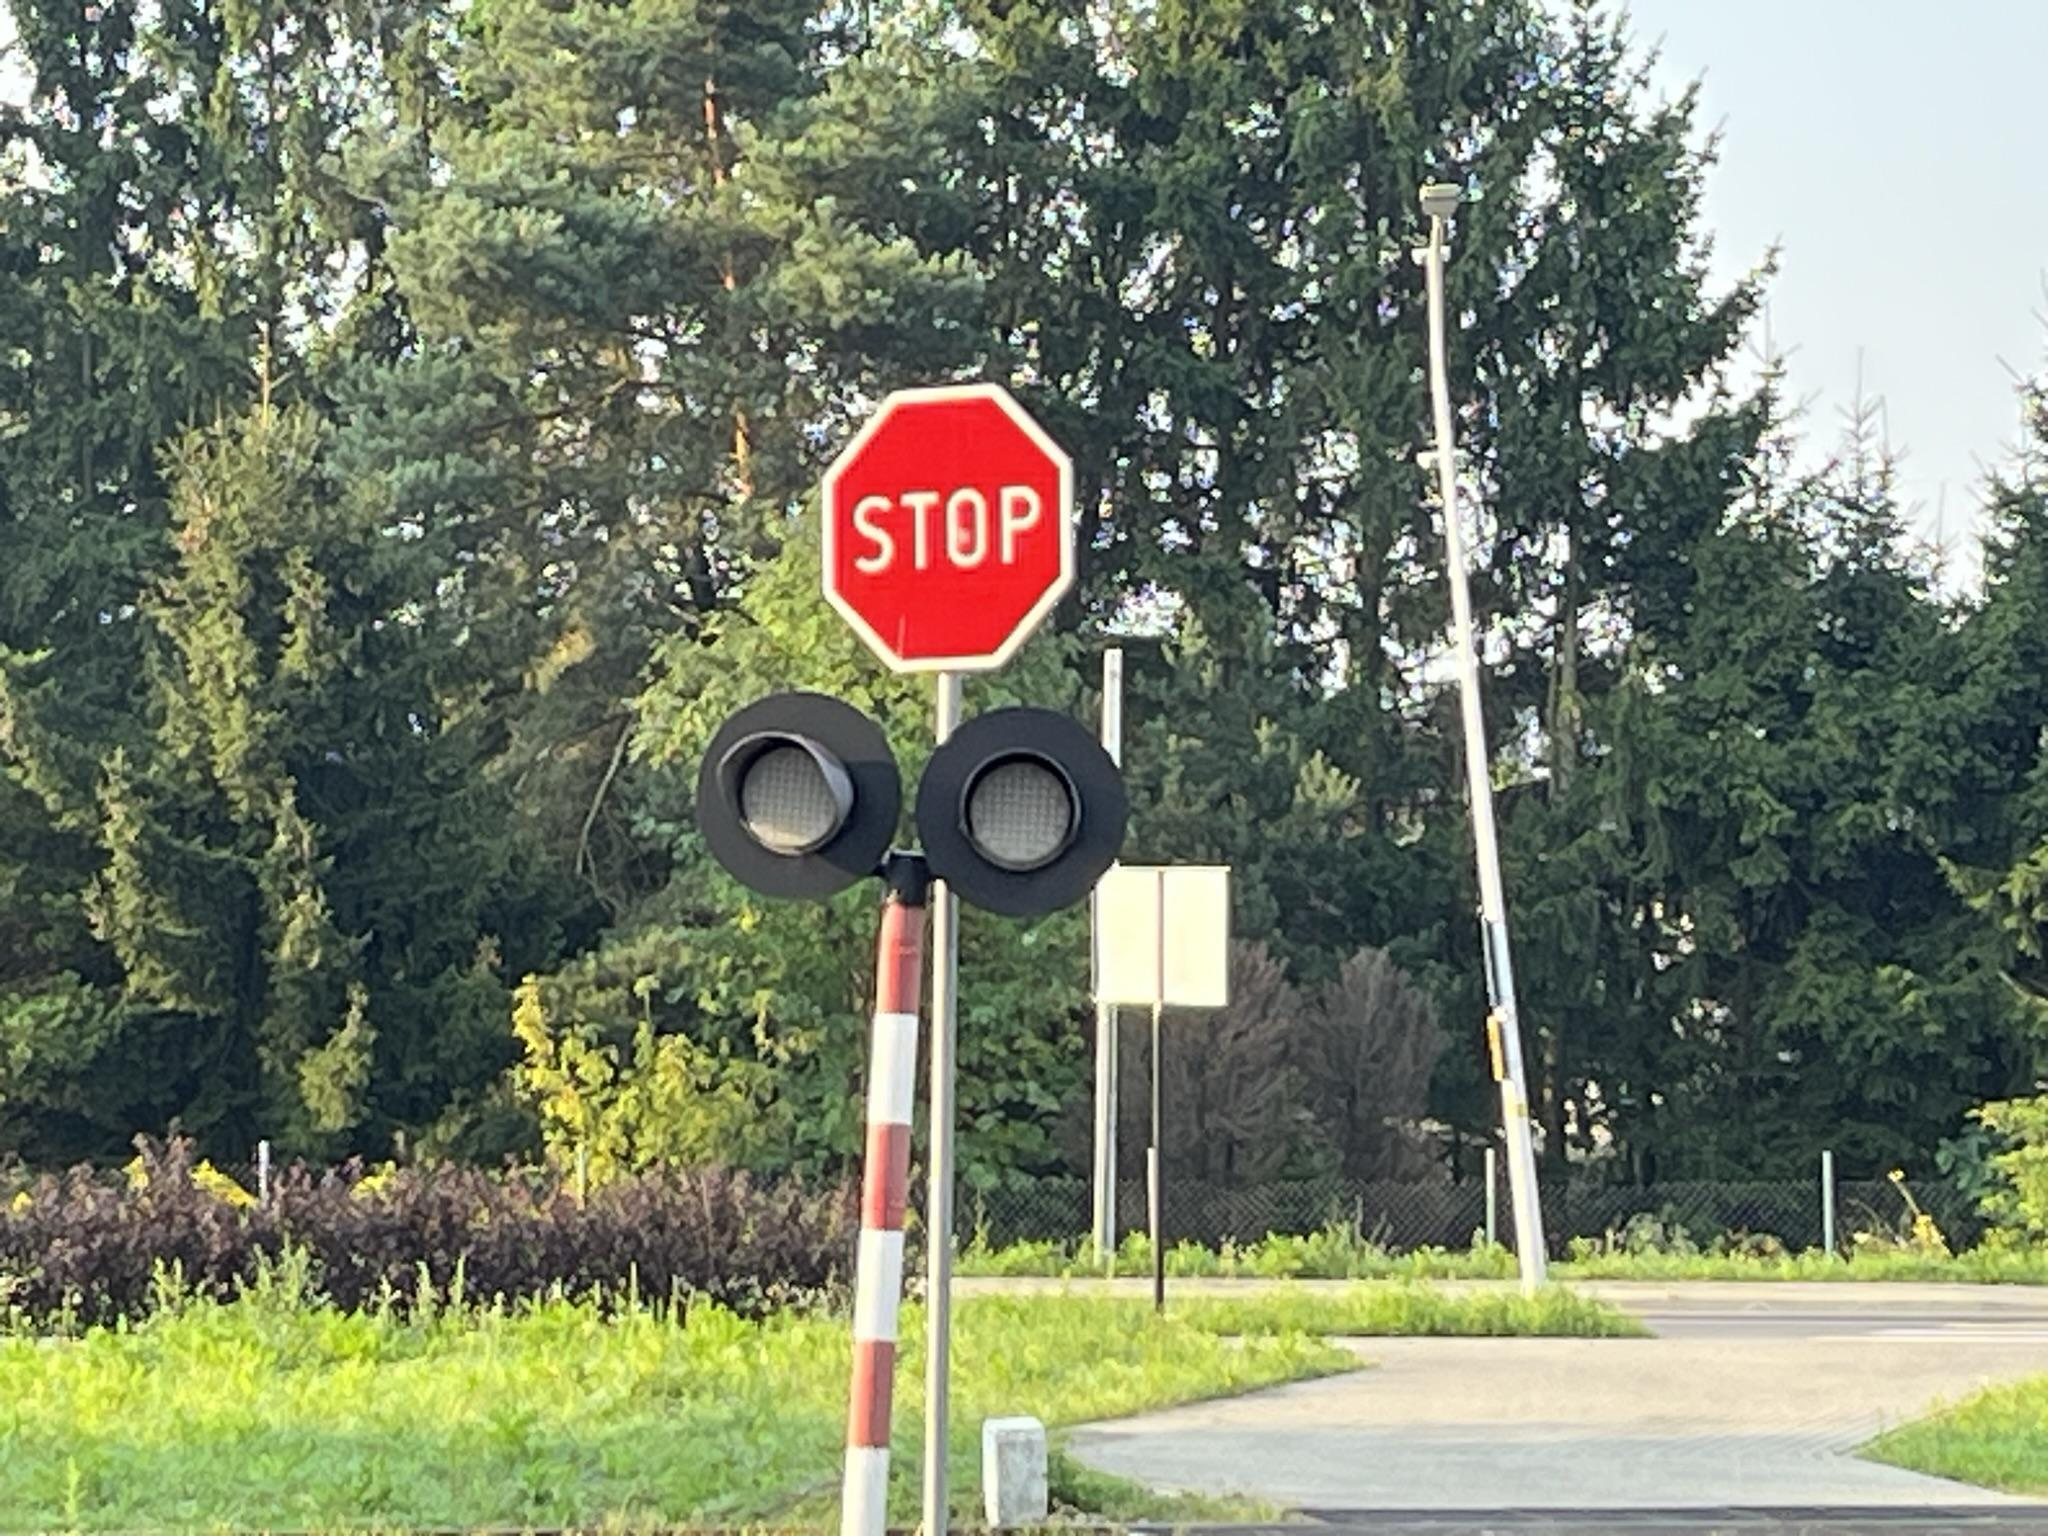prohibitory: (819, 384, 1071, 674)
